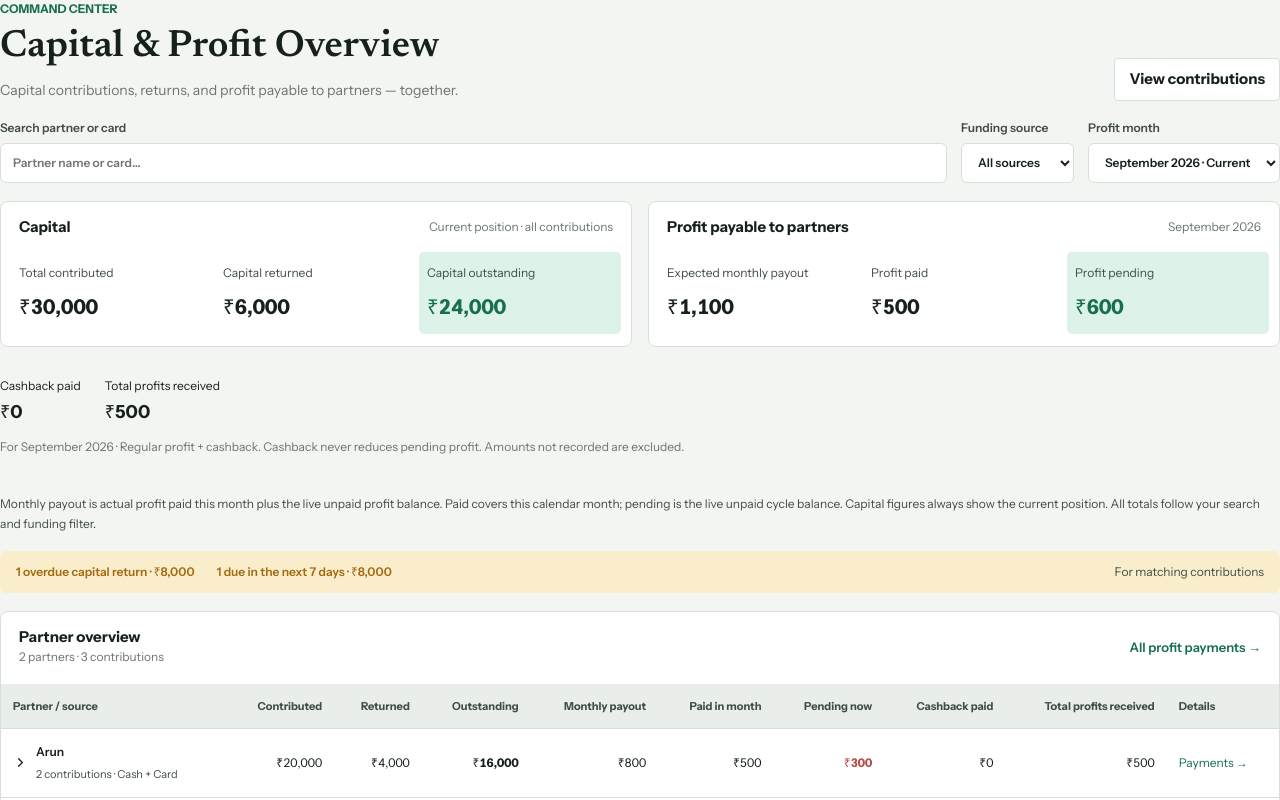
Test: shows date-based return reminders and read-only payment history
Expected: the link "1 overdue capital return · ₹8,000" is shown, [16, 563, 195, 581]
Expected: the link "1 due in the next 7 days · ₹8,000" is shown, [217, 563, 392, 581]
Click the button with aria-label "View Arun payments" at (1213, 763), box [1179, 746, 1248, 780]
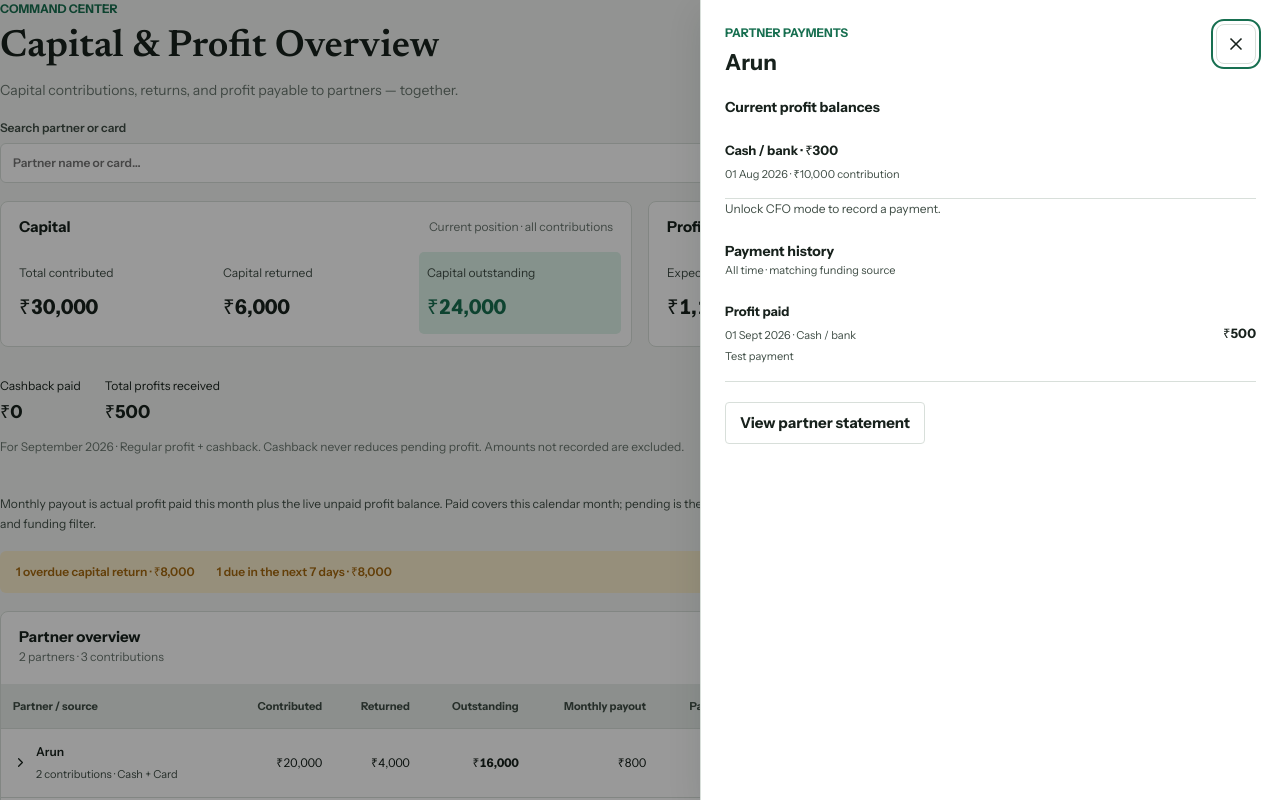
Expected: the dialog is shown, [700, 0, 1279, 799]
Expected: the text "Test payment" is shown, [725, 349, 794, 363]
Click the button named "Close payment panel" at (1236, 44), box [1216, 24, 1256, 64]
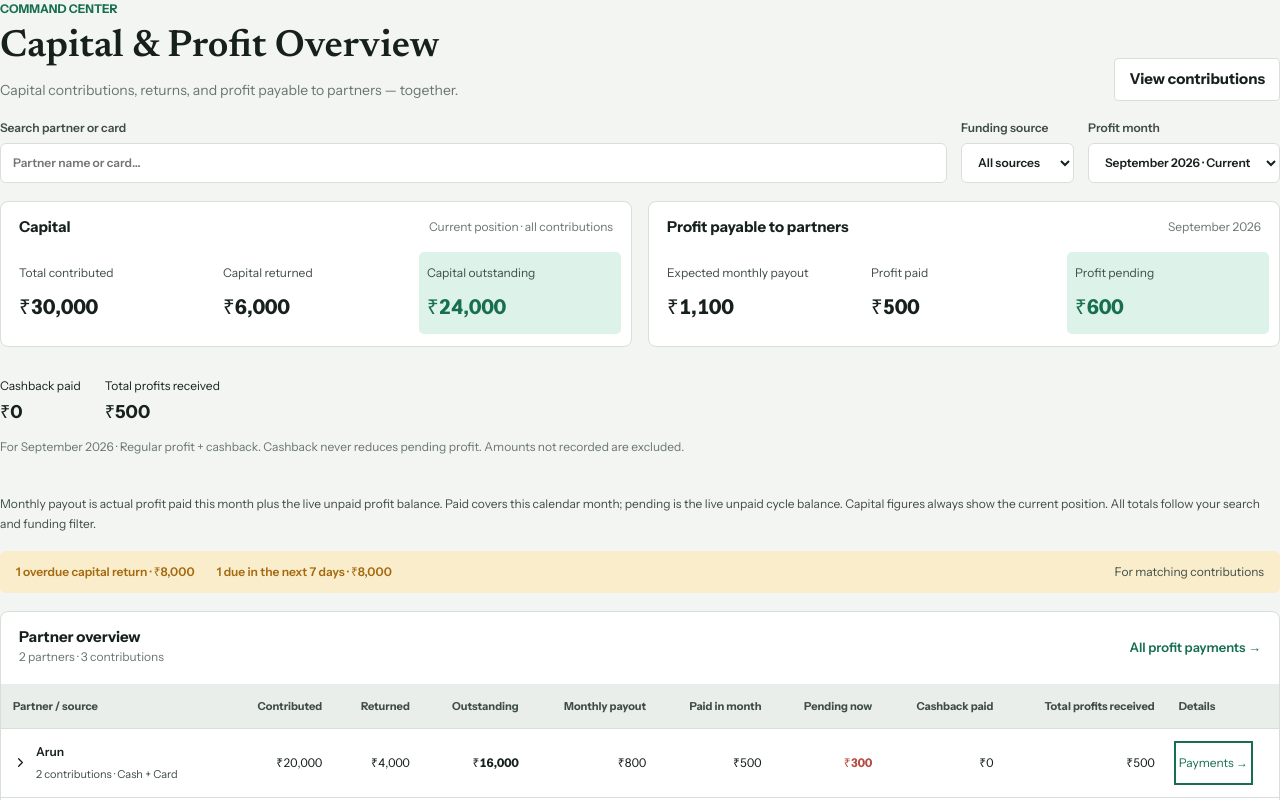
Expected: the dialog is gone
